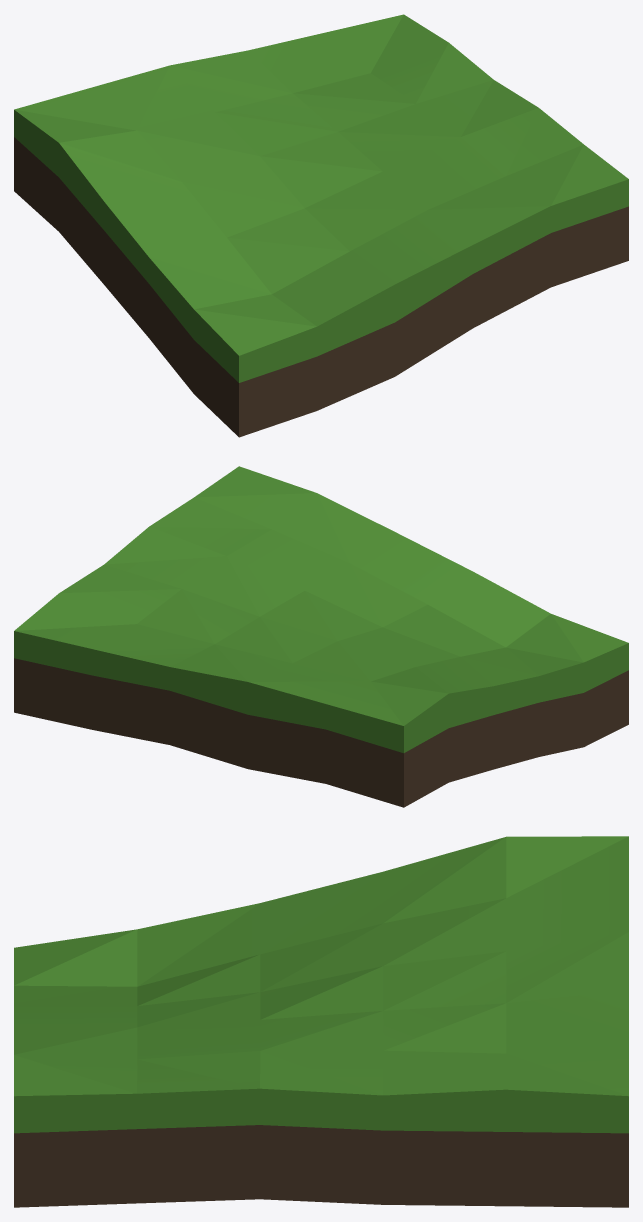
The model's file is terrains_terrain-world-valley3.fbx.
The picture shows the model from 3 angles, top to bottom: view 1: azimuth 30°, elevation 25°; view 2: azimuth 150°, elevation 25°; view 3: azimuth 270°, elevation 25°; orthographic projection. The views are drawn at different scales.
Parts seen in each view (by area): view 1: terrains_terrain_world_valley3; view 2: terrains_terrain_world_valley3; view 3: terrains_terrain_world_valley3.
Boxes of the visible parts, bbox=[...] form: terrains_terrain_world_valley3: bbox=[14, 14, 628, 437]; terrains_terrain_world_valley3: bbox=[14, 466, 628, 807]; terrains_terrain_world_valley3: bbox=[14, 836, 628, 1207].
Bounding box in the file's own units: 200 × 83 × 200.
